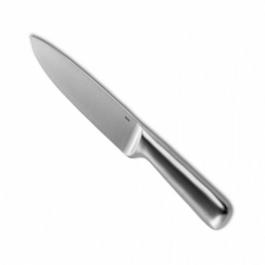knife: (29, 34, 234, 230)
